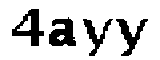4: (11, 4, 46, 50)
a: (45, 16, 80, 54)
y: (113, 12, 151, 60), (80, 14, 114, 60)
